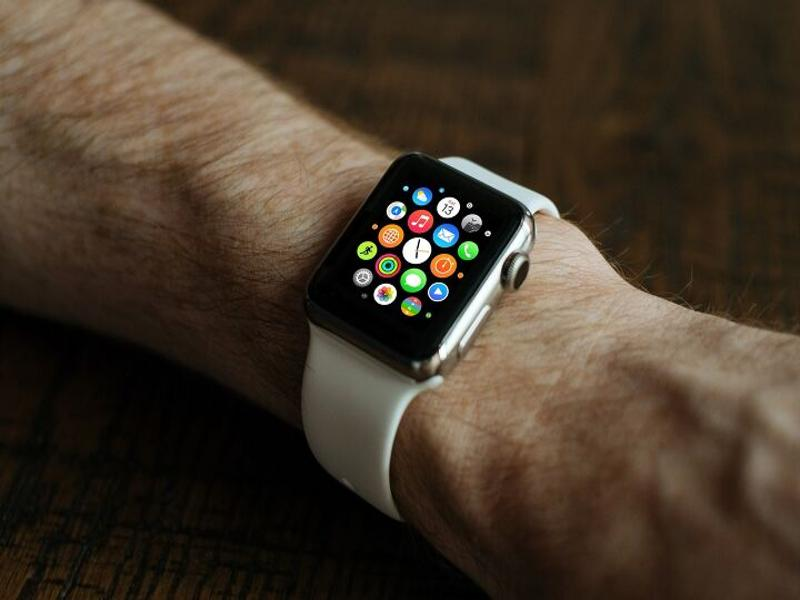watch: (284, 148, 564, 522)
